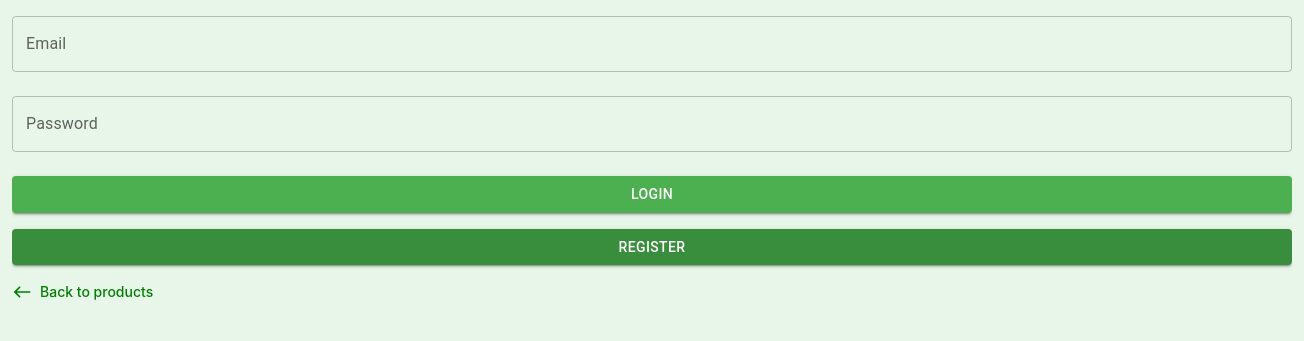
it: LoginForm › shows an error message on invalid credentials
Type "wrong@example.com" into the field labelled "Email" at (652, 44), box 12,16 -> 1292,72
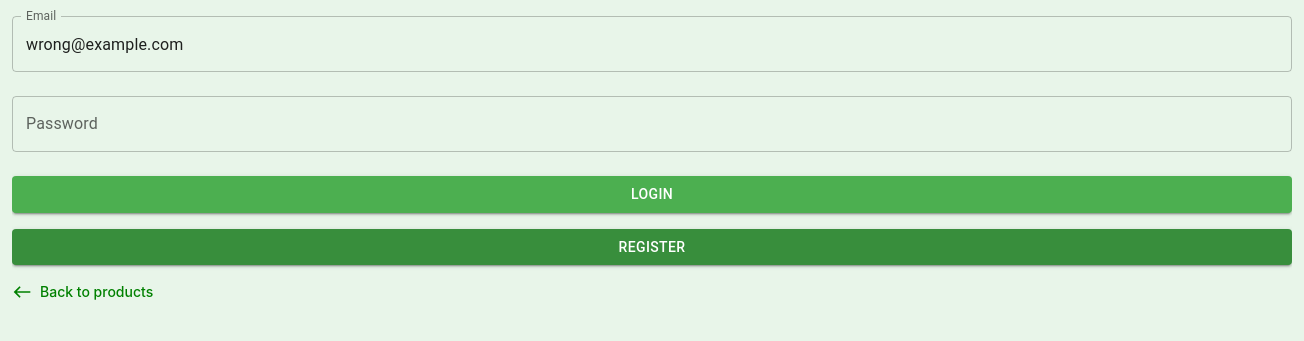
Type "wrongpassword" into the password field labelled "Password" at (652, 124), box 12,96 -> 1292,152
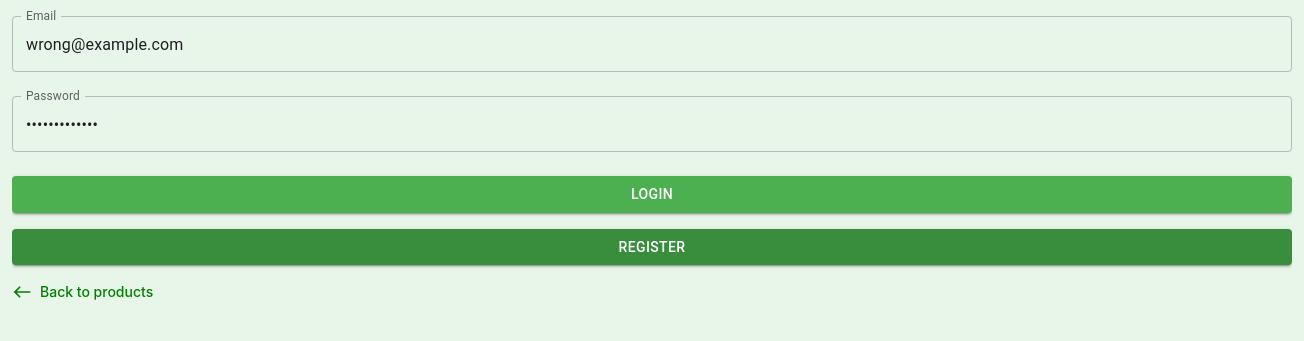
Click the button "Login" at (652, 194), box 12,176 -> 1292,212
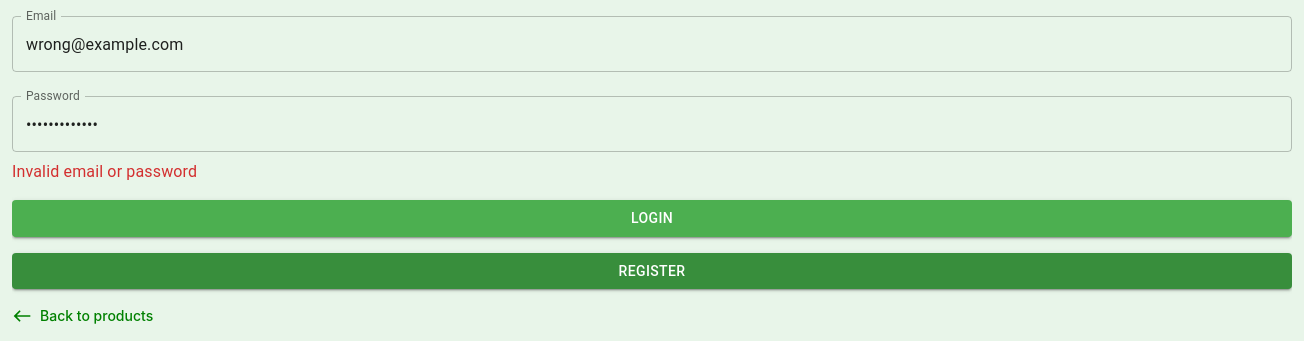
Now the text "Invalid email or password" is shown, box 12,162 -> 197,181
